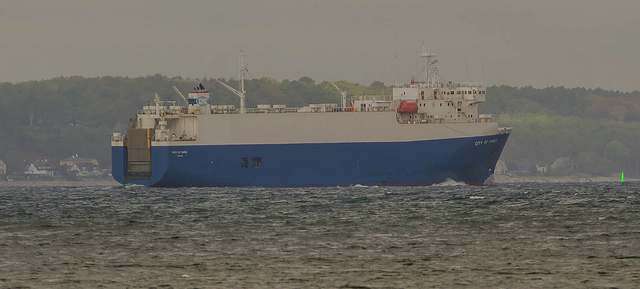PCC: (107, 54, 506, 190)
